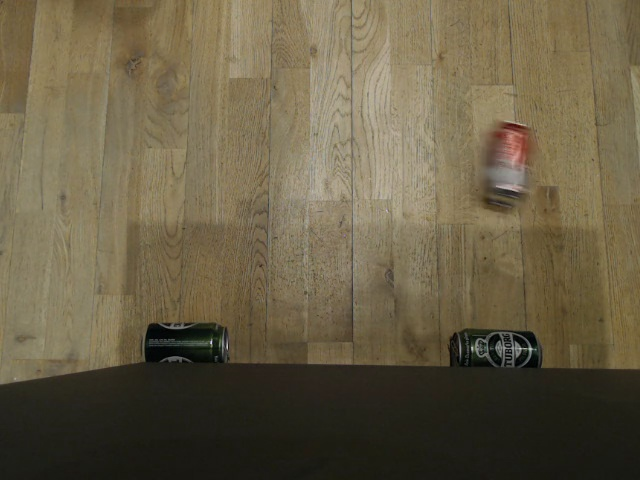beer: (441, 322, 548, 370), (136, 319, 237, 366)
cola: (479, 114, 535, 215)
